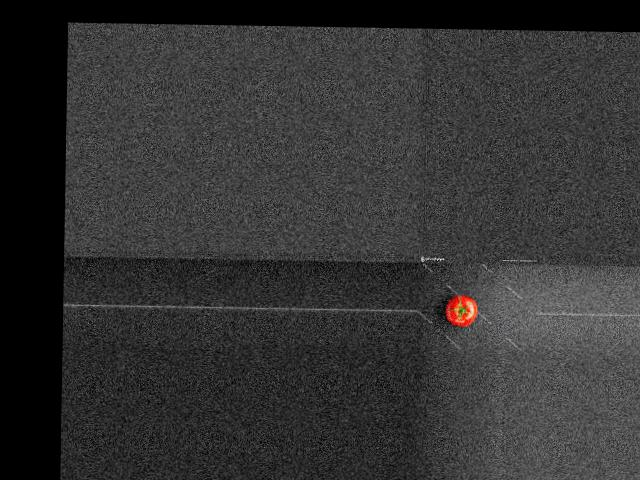tomato: (446, 294, 478, 326)
